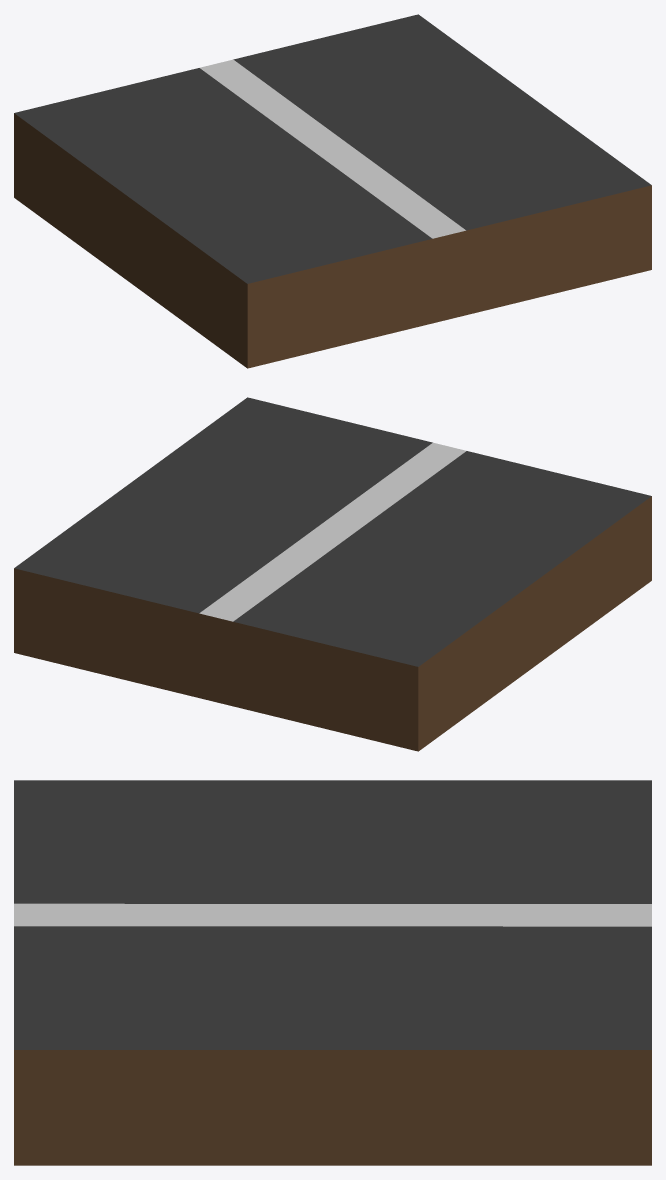
File: road_1_car_line.fbx
3 views of the same model, one above another, from view 1: azimuth 30°, elevation 25°; view 2: azimuth 150°, elevation 25°; view 3: azimuth 270°, elevation 25° (orthographic). The views are drawn at different scales.
Visible parts, largest first — view 1: Cube.043; view 2: Cube.043; view 3: Cube.043.
Part boxes in pixels (box(x1,y1,x2,y2)): Cube.043: box(14, 14, 651, 368); Cube.043: box(14, 397, 651, 751); Cube.043: box(14, 780, 651, 1165).
Size of the model in its own units: 1000 by 200 by 1000.
1 material, 1 textured.
